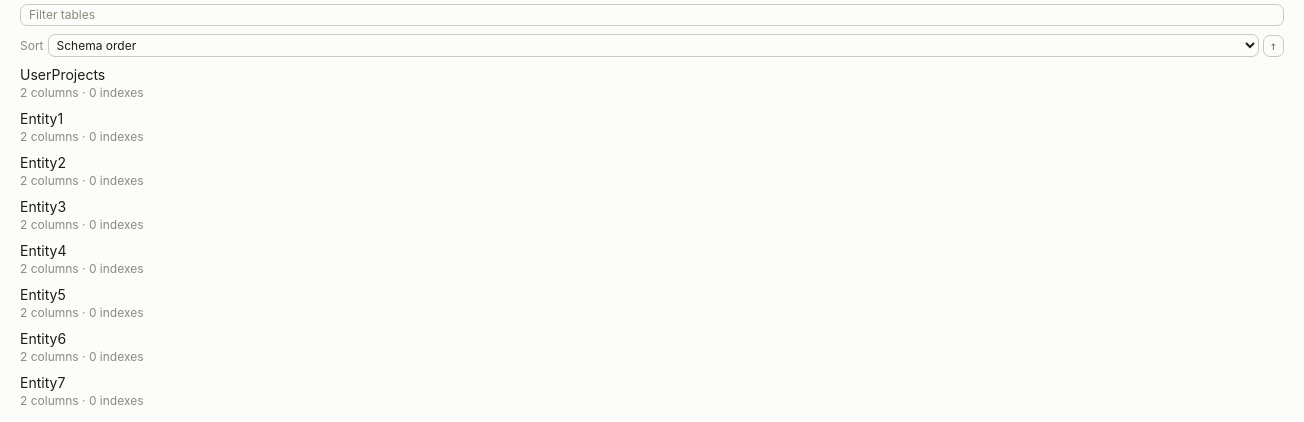
filtering narrows the list and is case-insensitive
The width and height of the screenshot is (1304, 422).
In the search field labelled "Filter tables": coordinates (652, 15) [20,4,1284,26], type "userproj"
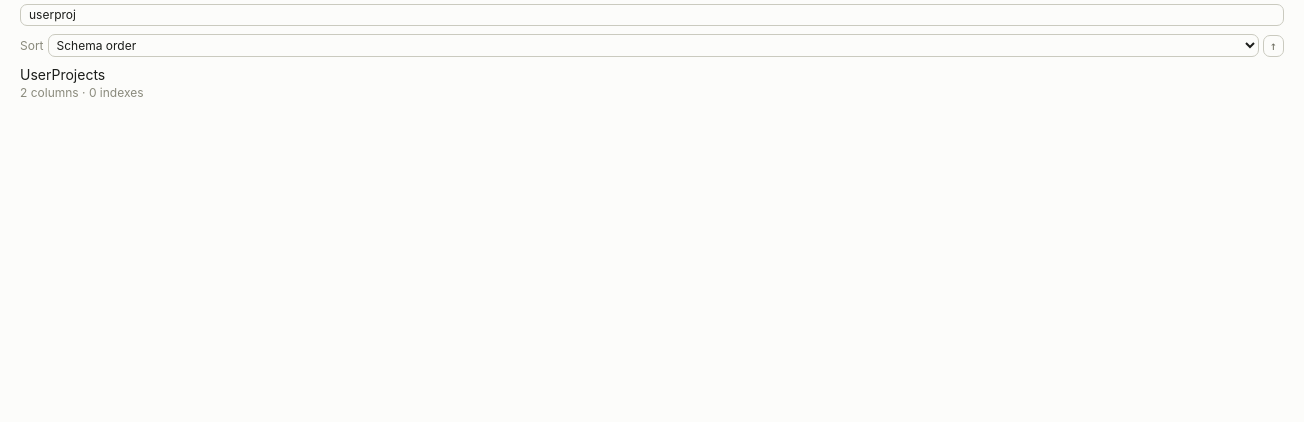
Check: the text "UserProjects" is shown, box [20,66,105,83]
Check: the button "Entity3" is gone
